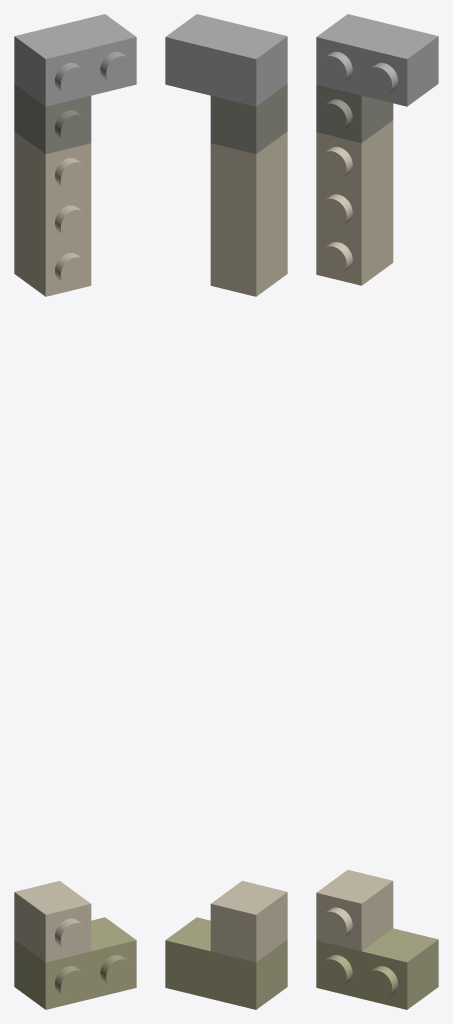
Rendered from current.glb.
The picture shows the model from 3 angles, left to right: view 1: azimuth 30°, elevation 25°; view 2: azimuth 150°, elevation 25°; view 3: azimuth 330°, elevation 25°; orthographic projection.
Visible parts, largest first — view 1: world; view 2: world; view 3: world.
Part boxes in pixels (x1=…): world: x1=14, y1=14, x2=136, y2=1009; world: x1=165, y1=14, x2=287, y2=1009; world: x1=316, y1=14, x2=438, y2=1009.
Size of the model in its own units: 16 by 160 by 11.4.
